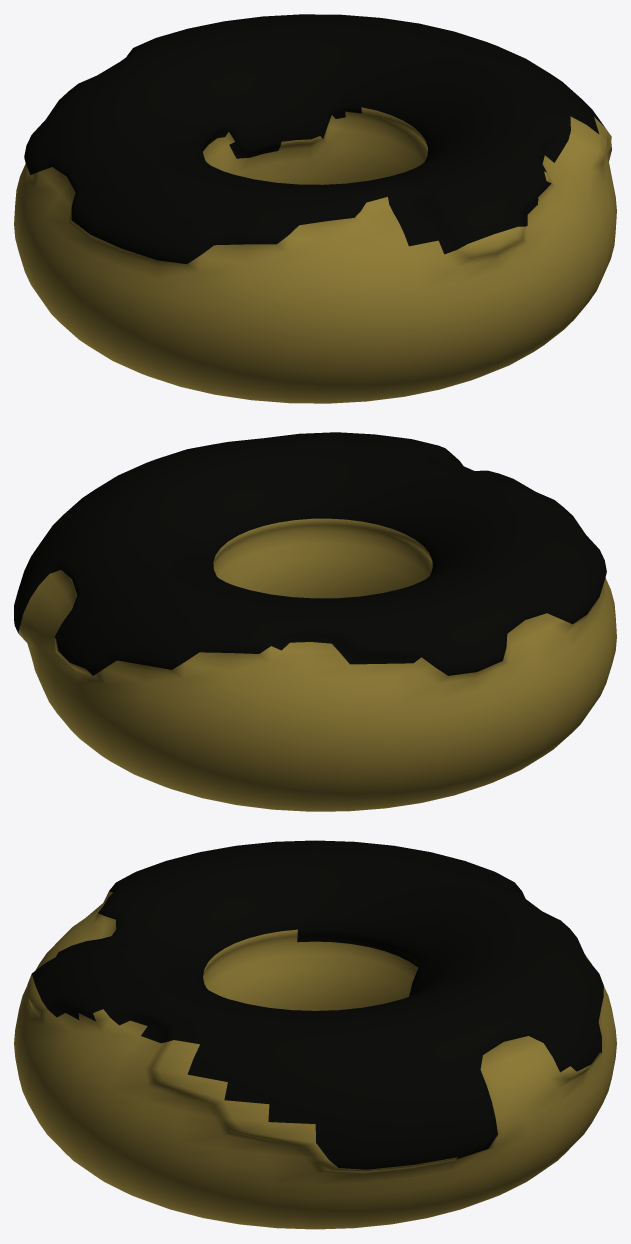
The model's file is Donut2.obj.
3 views of the same model, one above another, from view 1: azimuth 30°, elevation 25°; view 2: azimuth 150°, elevation 25°; view 3: azimuth 270°, elevation 25° (orthographic). The views are drawn at different scales.
Parts seen in each view (by area): view 1: pTorus1; view 2: pTorus1; view 3: pTorus1.
Part boxes in pixels (<box>): pTorus1: <box>14,14,616,403</box>; pTorus1: <box>14,432,616,811</box>; pTorus1: <box>14,840,616,1229</box>.
Bounding box in the file's own units: 3.03 × 1.11 × 2.95.
